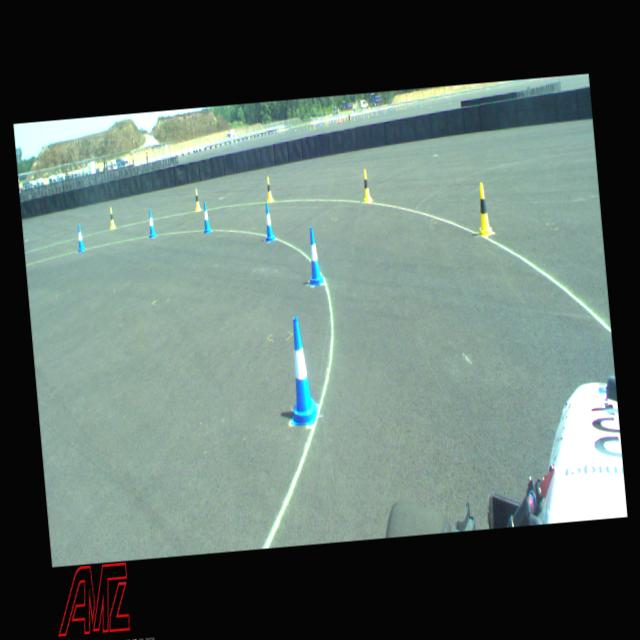blue_cone: (282, 315, 320, 426), (304, 226, 324, 286), (263, 202, 275, 243), (200, 200, 212, 233), (146, 208, 156, 238), (75, 223, 85, 252)
yellow_cone: (475, 182, 492, 236), (361, 168, 372, 202), (265, 175, 273, 202), (108, 206, 116, 229), (193, 188, 201, 211)
